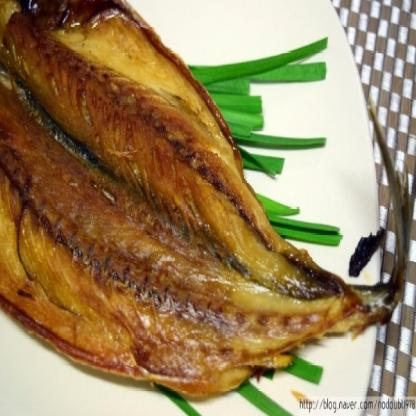Peixe: (0, 2, 405, 415)
